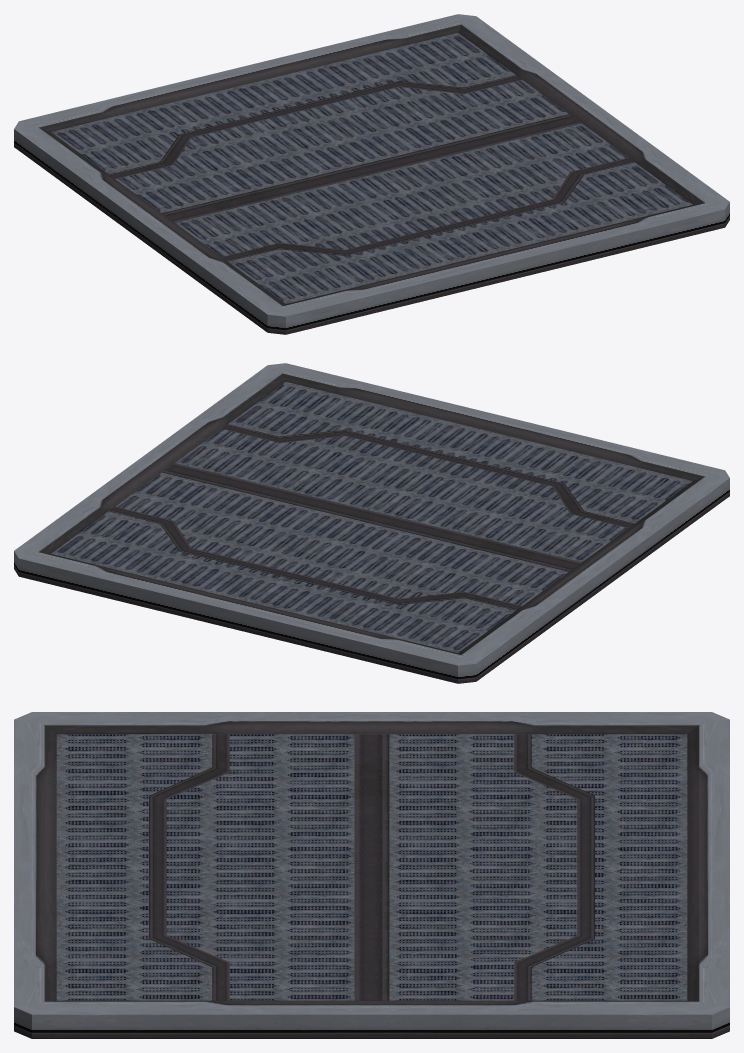
The model's file is dro_kaas_item_techpanel_grate02.glb.
3 renders of one model, top to bottom at view 1: azimuth 30°, elevation 25°; view 2: azimuth 150°, elevation 25°; view 3: azimuth 270°, elevation 25°, orthographic. The views are drawn at different scales.
Visible parts, largest first — view 1: dro_kaas_item_techpanel_grate02; view 2: dro_kaas_item_techpanel_grate02; view 3: dro_kaas_item_techpanel_grate02.
Boxes of the visible parts, x1,y1,x2,y2 form: dro_kaas_item_techpanel_grate02: (14, 14, 729, 334); dro_kaas_item_techpanel_grate02: (14, 363, 729, 683); dro_kaas_item_techpanel_grate02: (14, 712, 729, 1038).
Bounding box in the file's own units: 1.6 × 0.06 × 1.6.
2 materials, 2 textured.
